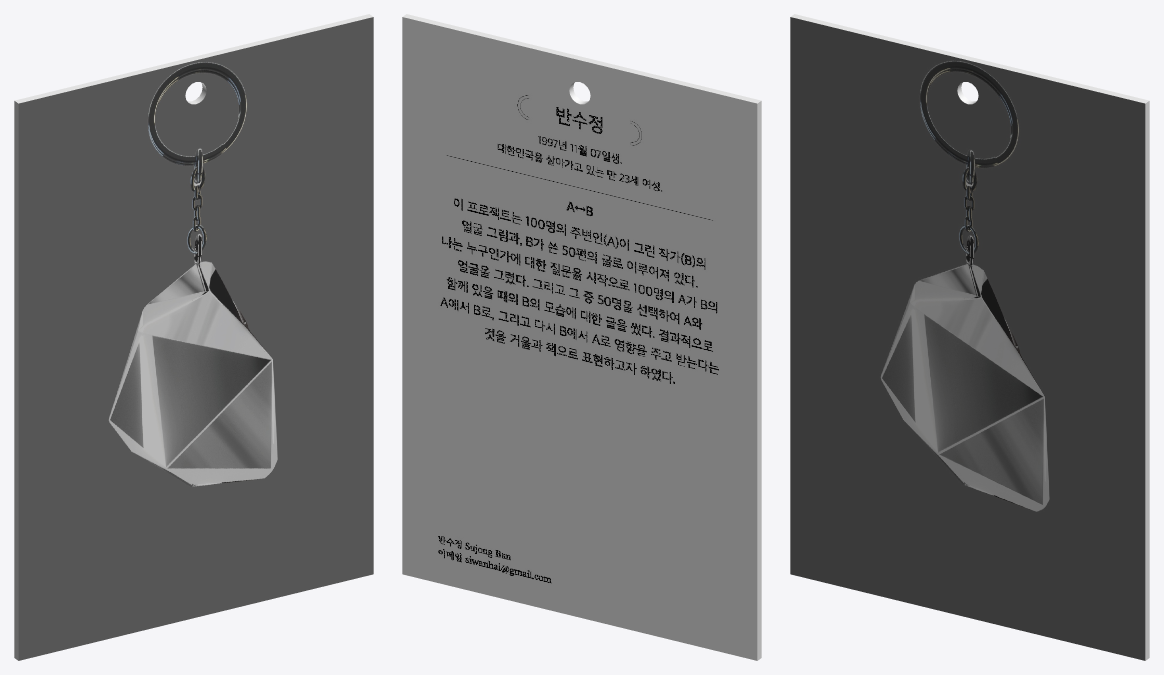
The model's file is leaflet.glb.
3 renders of one model, left to right at view 1: azimuth 30°, elevation 25°; view 2: azimuth 150°, elevation 25°; view 3: azimuth 330°, elevation 25°, orthographic.
Visible parts, largest first — view 1: Boole-Mat, Boole-Mat.1; view 2: Boole-Mat.8, Boole-Mat.1; view 3: Boole-Mat, Boole-Mat.1.
Boxes of the visible parts, box(x1,y1,x2,y2) form: Boole-Mat: box(18, 17, 373, 660); Boole-Mat.1: box(14, 14, 372, 660); Boole-Mat.8: box(402, 17, 757, 660); Boole-Mat.1: box(403, 14, 761, 660); Boole-Mat: box(790, 17, 1145, 660); Boole-Mat.1: box(791, 14, 1149, 660).
Size of the model in its own units: 100 by 150 by 2.
3 materials, 2 textured.
